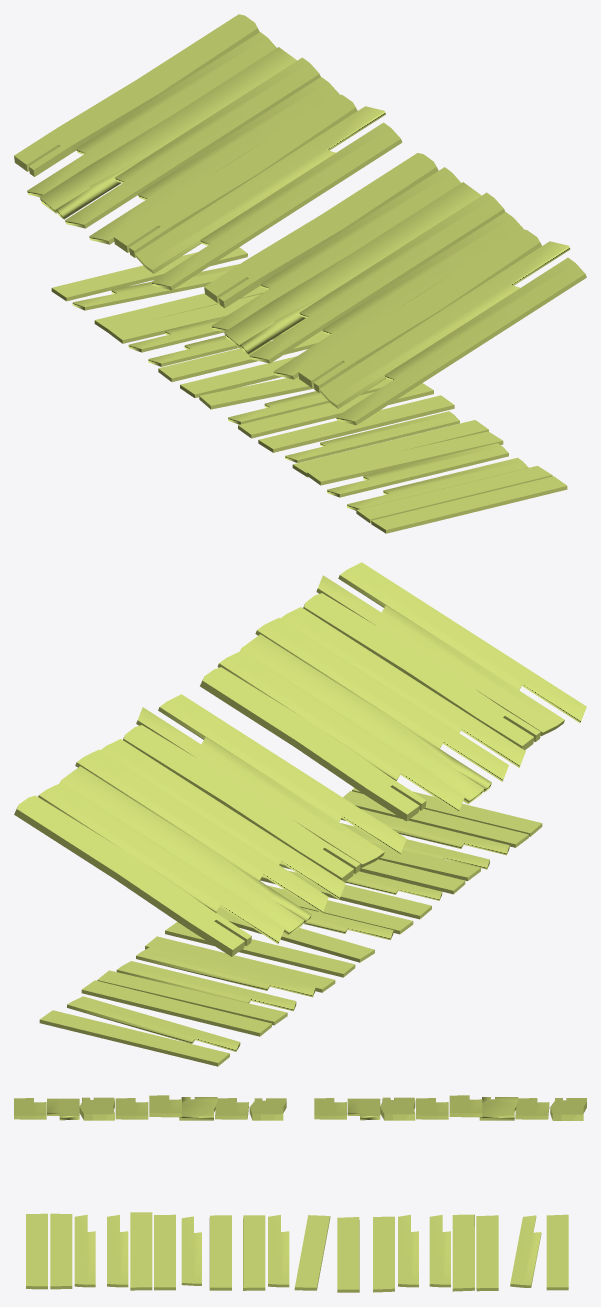
The model's file is Beam_Structure_21B_Lod0.fbx.
3 views of the same model, one above another, from view 1: azimuth 30°, elevation 25°; view 2: azimuth 150°, elevation 25°; view 3: azimuth 270°, elevation 25° (orthographic). The views are drawn at different scales.
Parts seen in each view (by area): view 1: Beam_Structure_21B_Lod0; view 2: Beam_Structure_21B_Lod0; view 3: Beam_Structure_21B_Lod0.
Part boxes in pixels (box(x1,y1,x2,y2)): Beam_Structure_21B_Lod0: box(14, 14, 586, 533); Beam_Structure_21B_Lod0: box(14, 562, 586, 1066); Beam_Structure_21B_Lod0: box(14, 1095, 586, 1292).
Bounding box in the file's own units: 221 × 189 × 529.
